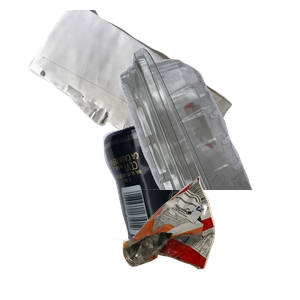glass: (37, 120, 231, 300)
paper: (27, 10, 252, 187)
plastic: (71, 45, 300, 225)
trash: (120, 174, 300, 300)
